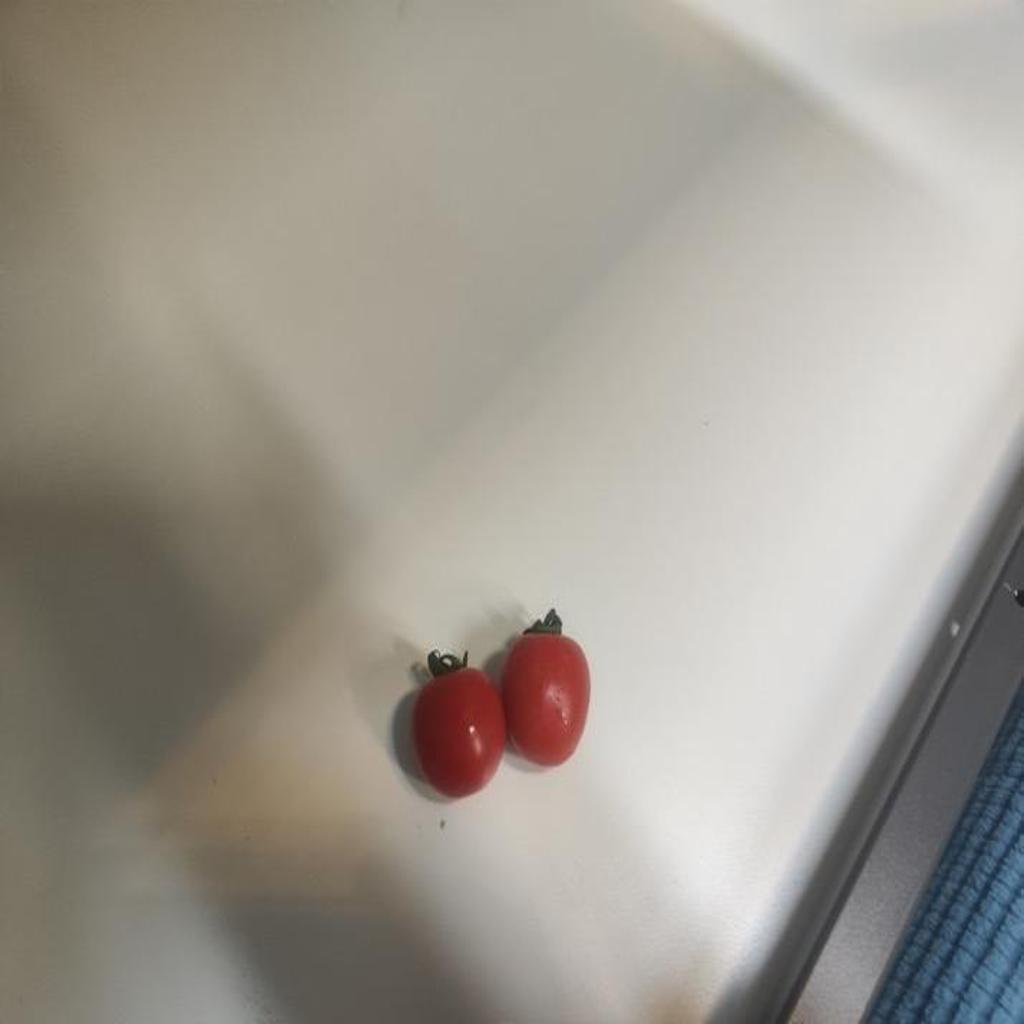tomato: (406, 657, 507, 801), (500, 621, 596, 765)
